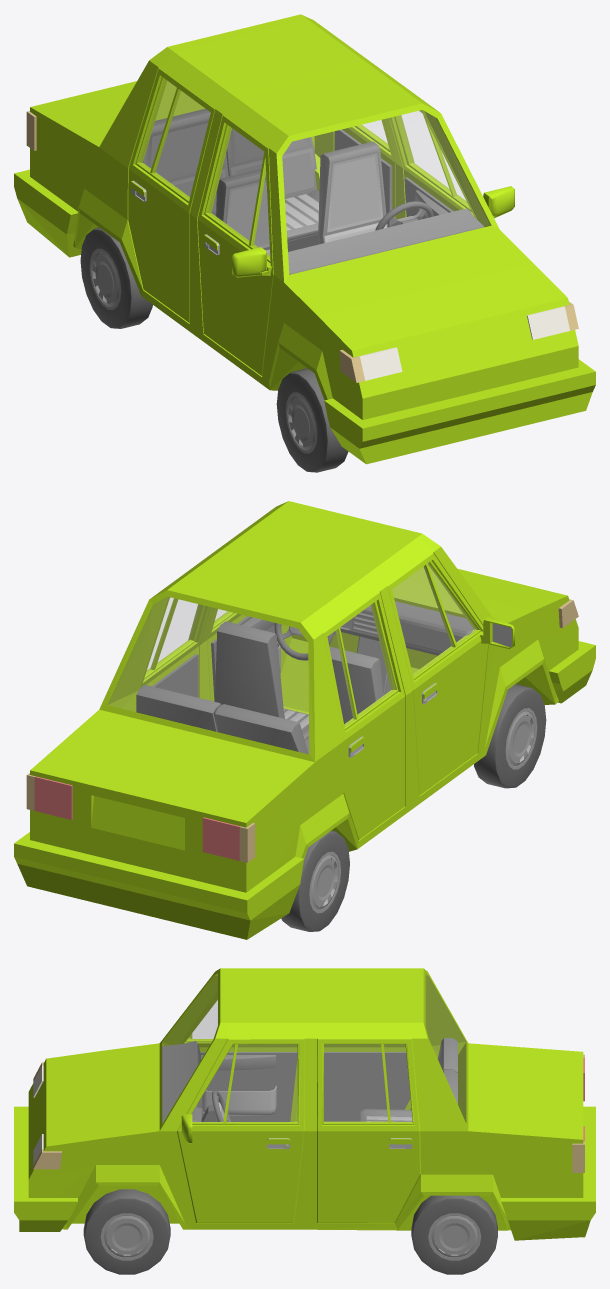
3 renders of one model, top to bottom at view 1: azimuth 30°, elevation 25°; view 2: azimuth 150°, elevation 25°; view 3: azimuth 270°, elevation 25°, orthographic. The views are drawn at different scales.
Visible parts, largest first — view 1: Chassis_Chassis_0, Windows_Windows_0, Chassis_Bumpers_0, Interior_InteriorPanel_0, FR_Door_Chassis_0, RR_Door_Chassis_0, Interior_Handler_0, RR_Door_Windows_0, FR_Door_Windows_0, FR_Wheel_Tire_0, RR_Wheel_Tire_0, FR_Door_Bumpers_0 (+11 smaller); view 2: Chassis_Chassis_0, Windows_Windows_0, Chassis_Bumpers_0, Interior_InteriorPanel_0, FR_Door_Chassis_0, RR_Door_Chassis_0, FR_Door_Windows_0, RR_Door_Windows_0, FR_Wheel_Tire_0, RR_Wheel_Tire_0, Brake_Lights_Brake_lights_0, FR_Door_Bumpers_0 (+11 smaller); view 3: Chassis_Chassis_0, FL_Door_Chassis_0, RL_Door_Chassis_0, Chassis_Bumpers_0, Windows_Windows_0, FL_Door_Windows_0, RL_Door_Windows_0, RR_Door_InteriorPanel_0, FL_Wheel_Tire_0, RL_Wheel_Tire_0, FR_Door_InteriorPanel_0, Interior_InteriorPanel_0 (+9 smaller).
Part boxes in pixels (x1=…): Chassis_Chassis_0: x1=30, y1=14, x2=578, y2=419; Windows_Windows_0: x1=156, y1=82, x2=489, y2=273; Chassis_Bumpers_0: x1=14, y1=169, x2=595, y2=464; Interior_InteriorPanel_0: x1=142, y1=108, x2=484, y2=274; FR_Door_Chassis_0: x1=197, y1=115, x2=273, y2=375; RR_Door_Chassis_0: x1=128, y1=68, x2=215, y2=322; Interior_Handler_0: x1=226, y1=153, x2=386, y2=255; RR_Door_Windows_0: x1=139, y1=80, x2=209, y2=198; FR_Door_Windows_0: x1=208, y1=127, x2=269, y2=258; FR_Wheel_Tire_0: x1=276, y1=368, x2=348, y2=472; RR_Wheel_Tire_0: x1=80, y1=227, x2=152, y2=328; FR_Door_Bumpers_0: x1=203, y1=124, x2=271, y2=277; Chassis_Chassis_0: x1=30, y1=501, x2=578, y2=892; Windows_Windows_0: x1=108, y1=568, x2=461, y2=753; Chassis_Bumpers_0: x1=14, y1=641, x2=595, y2=939; Interior_InteriorPanel_0: x1=136, y1=601, x2=473, y2=754; FR_Door_Chassis_0: x1=387, y1=553, x2=488, y2=795; RR_Door_Chassis_0: x1=323, y1=592, x2=405, y2=839; FR_Door_Windows_0: x1=392, y1=563, x2=477, y2=675; RR_Door_Windows_0: x1=328, y1=604, x2=395, y2=726; FR_Wheel_Tire_0: x1=474, y1=684, x2=546, y2=788; RR_Wheel_Tire_0: x1=281, y1=830, x2=349, y2=931; Brake_Lights_Brake_lights_0: x1=34, y1=776, x2=239, y2=860; FR_Door_Bumpers_0: x1=413, y1=561, x2=514, y2=701; Chassis_Chassis_0: x1=28, y1=968, x2=583, y2=1229; FL_Door_Chassis_0: x1=177, y1=1038, x2=304, y2=1223; RL_Door_Chassis_0: x1=317, y1=1038, x2=420, y2=1223; Chassis_Bumpers_0: x1=14, y1=1085, x2=595, y2=1240; Windows_Windows_0: x1=164, y1=974, x2=465, y2=1120; FL_Door_Windows_0: x1=192, y1=1044, x2=297, y2=1122; RL_Door_Windows_0: x1=324, y1=1044, x2=411, y2=1121; RR_Door_InteriorPanel_0: x1=324, y1=1052, x2=410, y2=1121; FL_Wheel_Tire_0: x1=83, y1=1189, x2=170, y2=1274; RL_Wheel_Tire_0: x1=411, y1=1195, x2=497, y2=1274; FR_Door_InteriorPanel_0: x1=200, y1=1052, x2=297, y2=1121; Interior_InteriorPanel_0: x1=162, y1=1038, x2=457, y2=1123.
Size of the model in its own units: 5.2 by 4.99 by 11.18.
